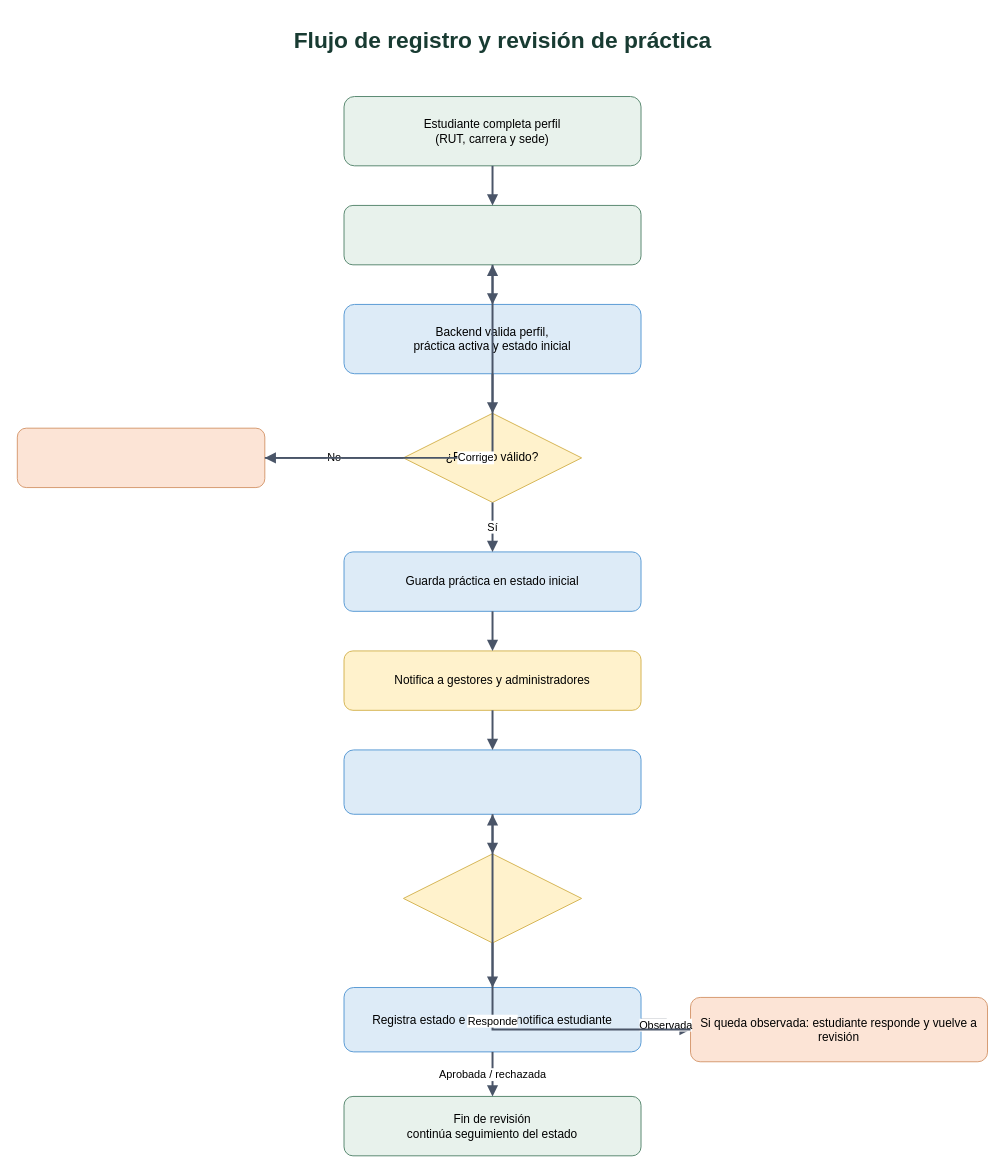
Image size: 1005x1173. Some labels were removed from this diagram. The shapes that lost their labels are listed below. From the top down, each one's box as (x1, y1, x2, y2) in pixels, then its label:
(343, 204, 641, 265): Registra práctica y datos del centro
(16, 427, 265, 488): Muestra error; estudiante corrige datos
(343, 749, 641, 814): Gestor o administrador revisa antecedentes
(402, 853, 582, 943): Decide: aprobar, observar o rechazar
